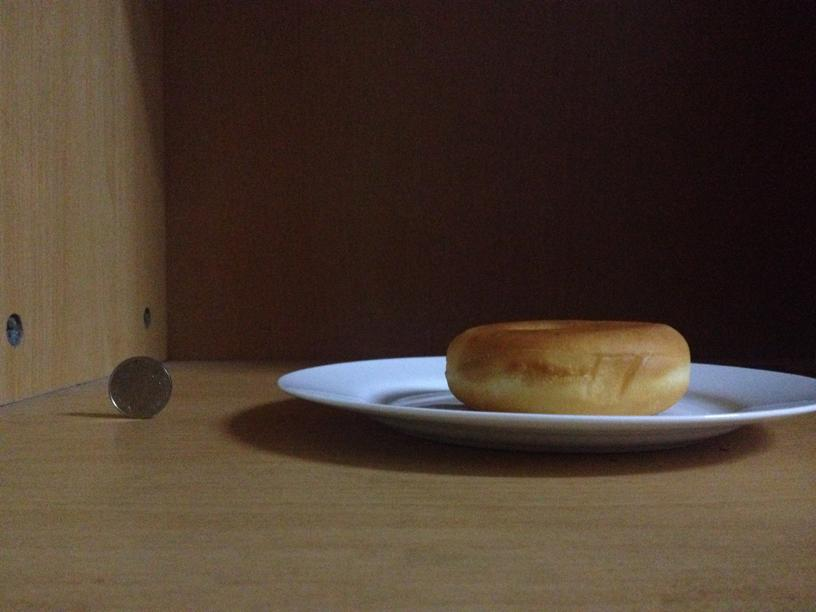coin: (106, 355, 174, 420)
doughnut: (448, 318, 691, 416)
